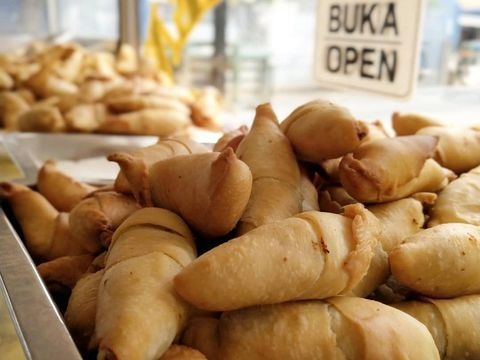pisang_molen: (173, 204, 424, 308), (95, 205, 188, 360)
